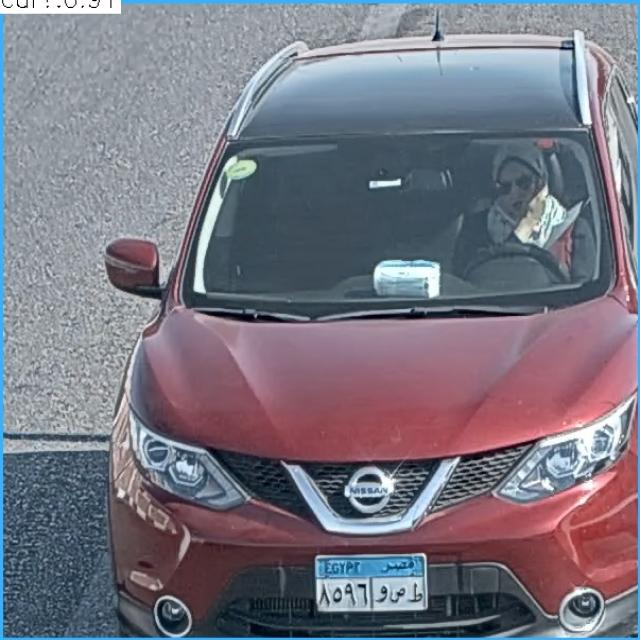windshield: (184, 139, 611, 301)
